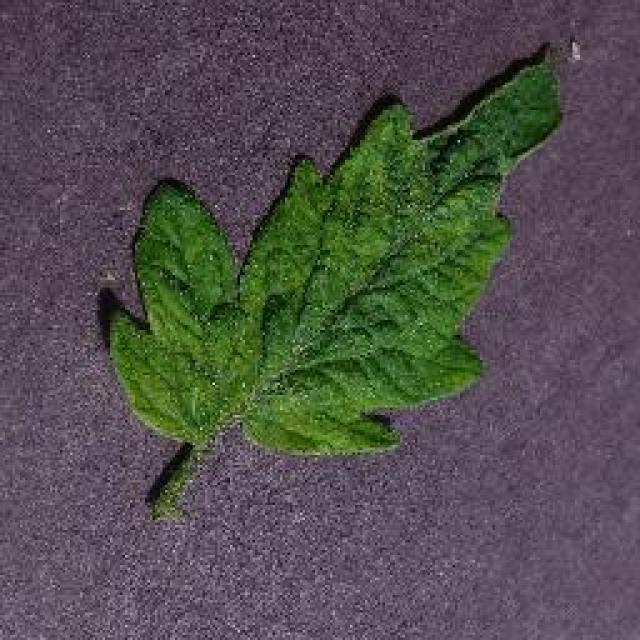Tom_mosaic_virus: (296, 140, 482, 374)
